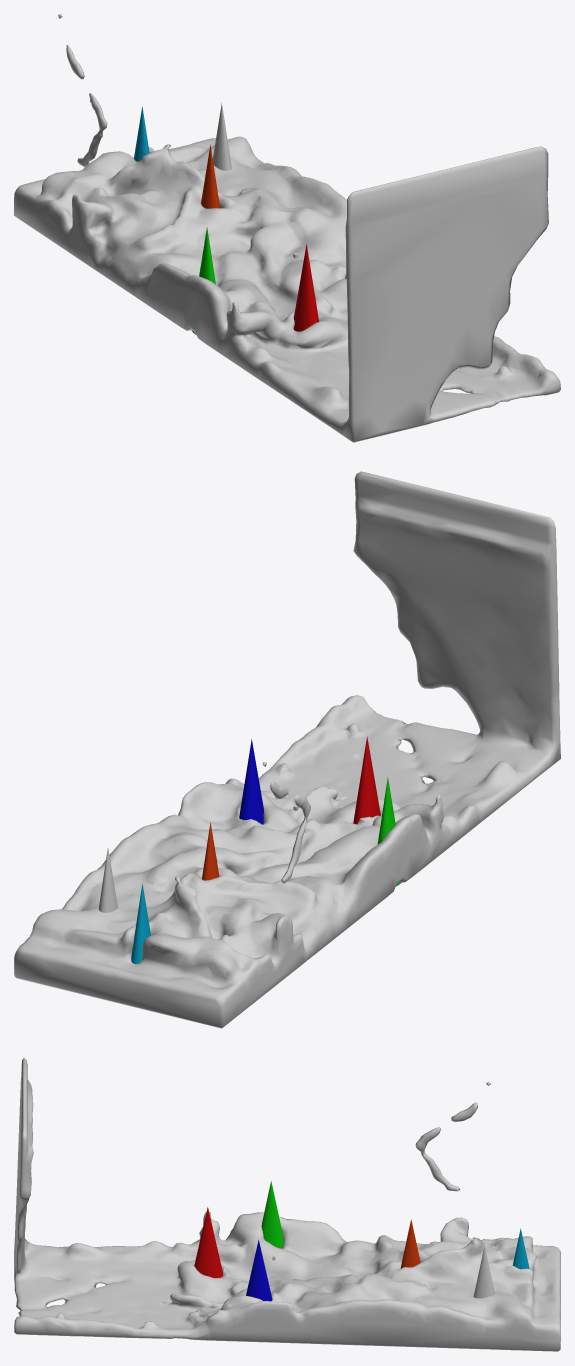
The picture shows the model from 3 angles, top to bottom: view 1: azimuth 30°, elevation 25°; view 2: azimuth 150°, elevation 25°; view 3: azimuth 270°, elevation 25°; orthographic projection. The views are drawn at different scales.
Visible parts, largest first — view 1: Liquid_Domain, 円錐.001, 円錐, 円錐.004; view 2: Liquid_Domain, 円錐.001, 円錐.002, 円錐.005, 円錐; view 3: Liquid_Domain, 円錐.001, 円錐.003, 円錐.002, 円錐, 円錐.004, 円錐.005.
Boxes of the visible parts, box(x1,y1,x2,y2) form: Liquid_Domain: box(14, 14, 560, 442); 円錐.001: box(293, 244, 318, 331); 円錐: box(212, 103, 231, 170); 円錐.004: box(201, 144, 219, 208); Liquid_Domain: box(14, 471, 560, 1028); 円錐.001: box(353, 736, 380, 824); 円錐.002: box(239, 739, 263, 824); 円錐.005: box(131, 883, 150, 963); 円錐: box(98, 847, 117, 912); Liquid_Domain: box(14, 1057, 560, 1351); 円錐.001: box(194, 1207, 222, 1277); 円錐.003: box(261, 1181, 283, 1248); 円錐.002: box(246, 1240, 272, 1301); 円錐: box(473, 1246, 494, 1298); 円錐.004: box(400, 1219, 420, 1268); 円錐.005: box(512, 1228, 533, 1287).
Size of the model in its own units: 129 by 157 by 361.
